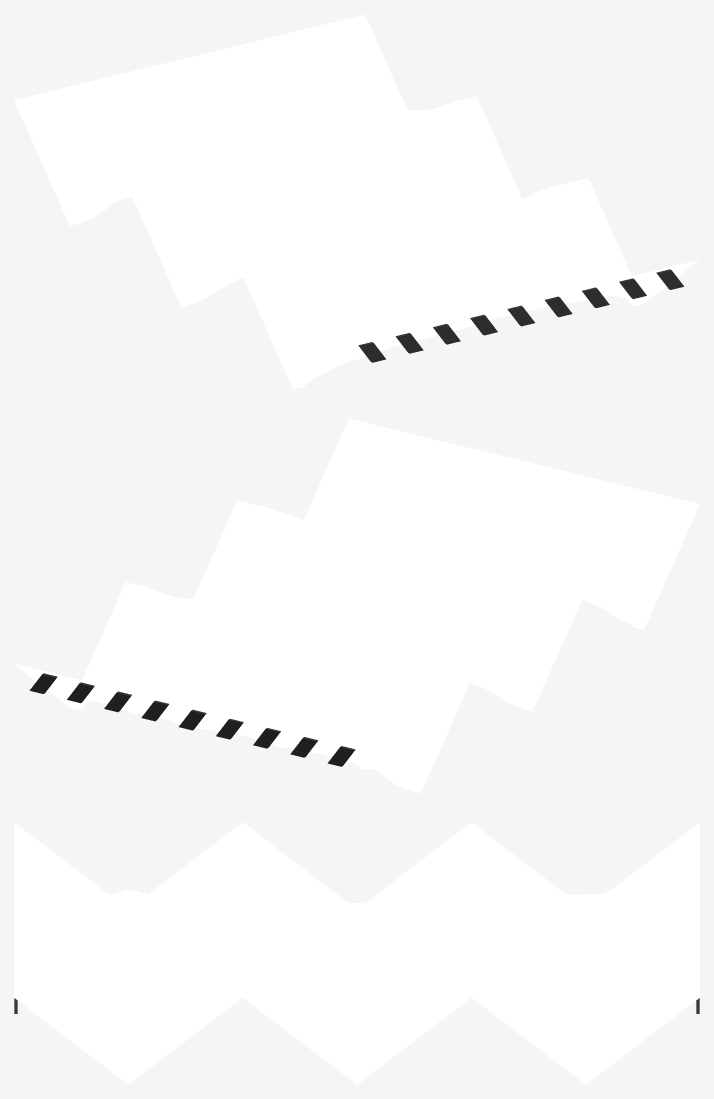
The model's file is SnowRoofTop.glb.
3 views of the same model, one above another, from view 1: azimuth 30°, elevation 25°; view 2: azimuth 150°, elevation 25°; view 3: azimuth 270°, elevation 25° (orthographic). The views are drawn at different scales.
Parts seen in each view (by area): view 1: roof_top, DIGITAL_LED02.001; view 2: roof_top, DIGITAL_LED02.001; view 3: roof_top.
Boxes of the visible parts, bbox=[...] form: roof_top: bbox=[14, 14, 699, 389]; DIGITAL_LED02.001: bbox=[358, 269, 683, 362]; roof_top: bbox=[14, 418, 699, 793]; DIGITAL_LED02.001: bbox=[30, 673, 355, 766]; roof_top: bbox=[14, 822, 699, 1084].
Bounding box in the file's own units: 20.98 × 4.86 × 34.66.
2 materials, 1 textured.
